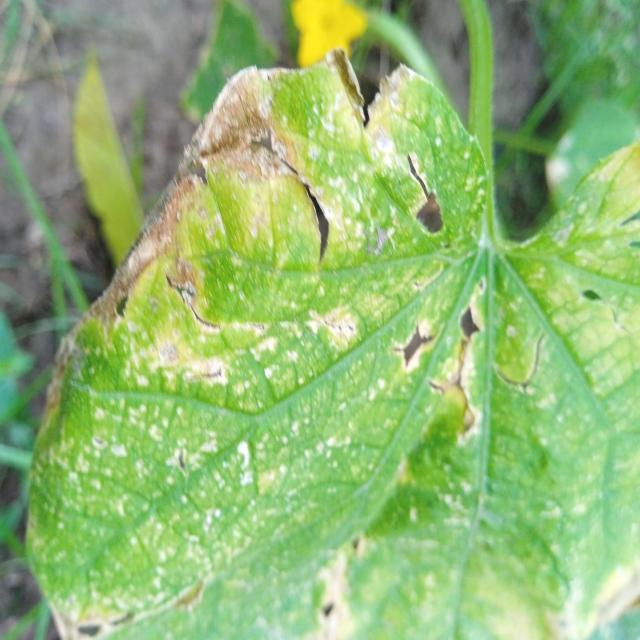cucumber_gummy: (23, 41, 640, 640)
